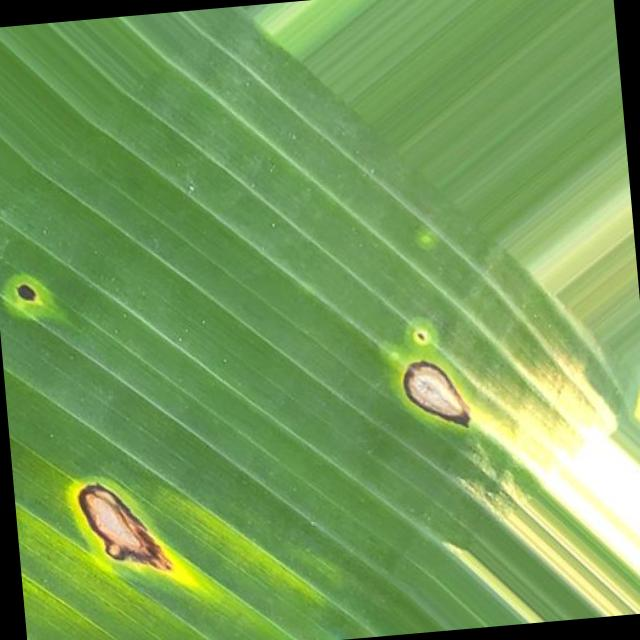Banana_Black_Sigatoka: (338, 300, 542, 470), (69, 435, 233, 640), (0, 246, 130, 408)
